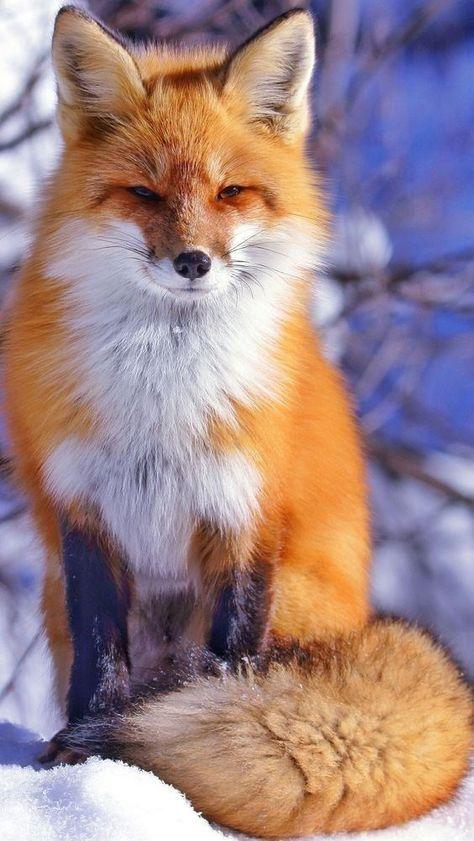fox: (1, 3, 472, 837)
